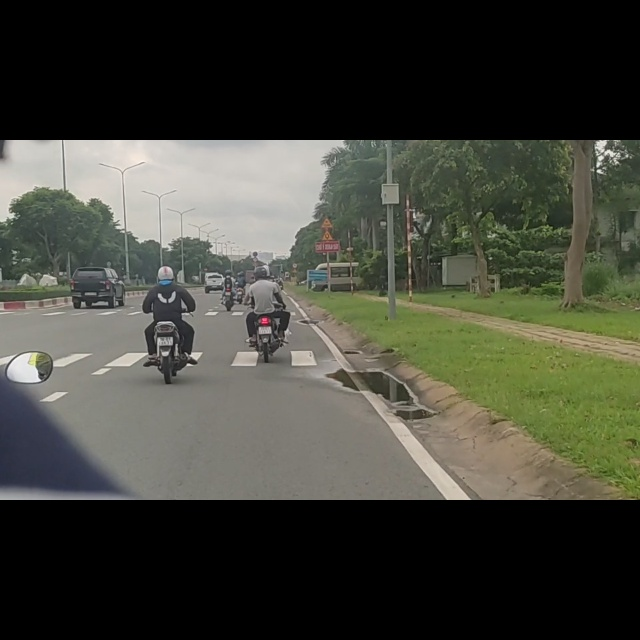bien_nguy_hiem: (321, 137, 334, 158), (321, 161, 334, 179), (253, 198, 259, 207)
